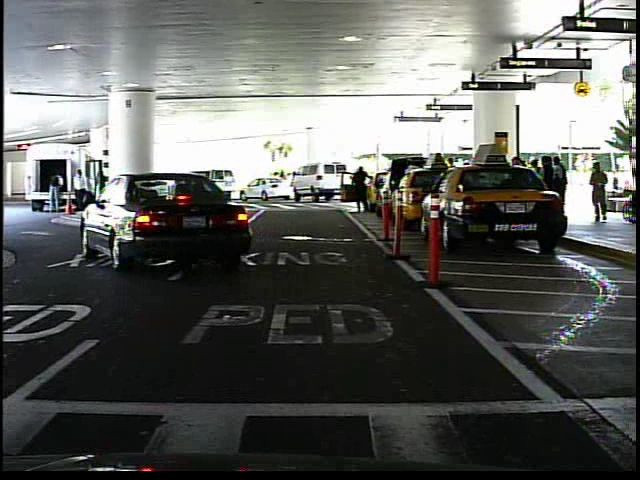person: (594, 162, 615, 227), (351, 165, 374, 217), (278, 168, 288, 178)
